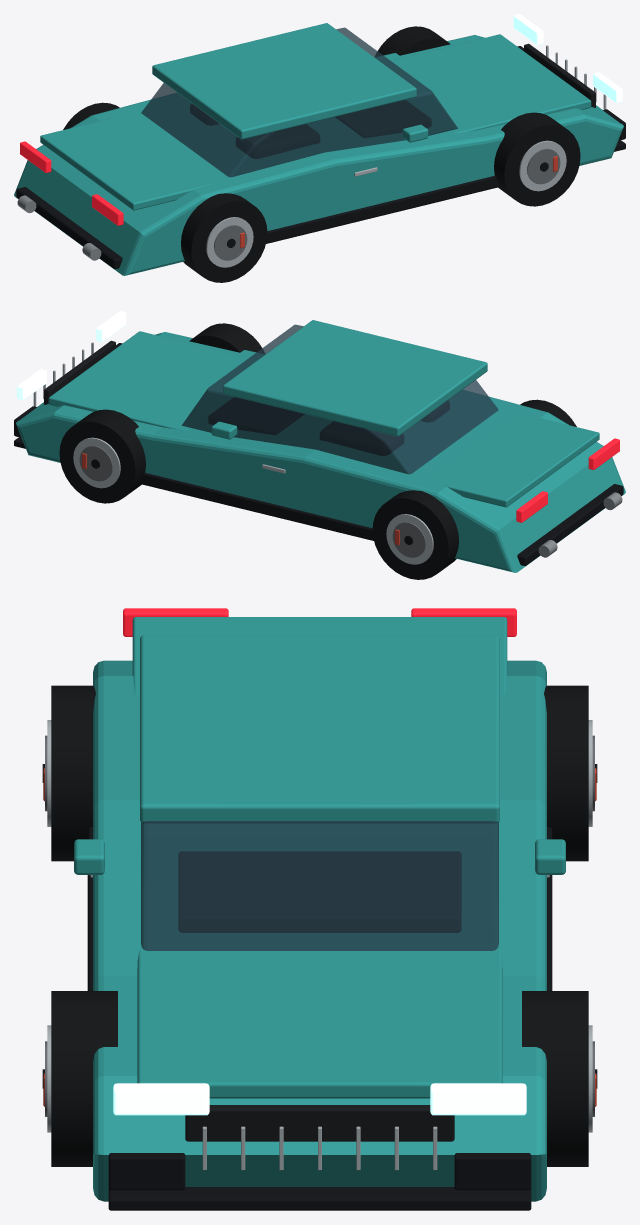
Rendered from lambo_temperario.glb.
3 views of the same model, one above another, from view 1: azimuth 30°, elevation 25°; view 2: azimuth 150°, elevation 25°; view 3: azimuth 270°, elevation 25° (orthographic). The views are drawn at different scales.
Visible parts, largest first — view 1: sculpted_body, roof, glasshouse, hood_center, rear_deck, front_right_wheel_tire, rear_right_wheel_tire, side_skirt_1, dashboard, seat_1, rear_diffuser, front_left_wheel_tire (+10 smaller); view 2: sculpted_body, roof, glasshouse, hood_center, rear_deck, front_left_wheel_tire, rear_left_wheel_tire, side_skirt_-1, dashboard, seat_-1, rear_diffuser, front_right_wheel_tire (+10 smaller); view 3: sculpted_body, roof, hood_center, glasshouse, dashboard, front_splitter, front_grille, front_left_wheel_tire, front_right_wheel_tire, rear_deck, rear_left_wheel_tire, rear_right_wheel_tire (+8 smaller).
Part boxes in pixels (<box>): sculpted_body: <box>14,35,623,275</box>; roof: <box>152,23,416,139</box>; glasshouse: <box>141,27,457,177</box>; hood_center: <box>383,34,591,133</box>; rear_deck: <box>40,116,213,210</box>; front_right_wheel_tire: <box>494,112,580,206</box>; rear_right_wheel_tire: <box>181,193,267,282</box>; side_skirt_1: <box>266,175,500,243</box>; dashboard: <box>336,100,430,137</box>; seat_1: <box>236,124,319,158</box>; rear_diffuser: <box>16,187,122,268</box>; front_left_wheel_tire: <box>375,26,450,56</box>; sculpted_body: <box>16,332,625,572</box>; roof: <box>223,320,487,436</box>; glasshouse: <box>182,324,498,474</box>; hood_center: <box>48,331,256,430</box>; rear_deck: <box>426,413,599,507</box>; front_left_wheel_tire: <box>59,409,145,503</box>; rear_left_wheel_tire: <box>372,490,458,579</box>; side_skirt_-1: <box>139,472,373,540</box>; dashboard: <box>209,397,303,434</box>; seat_-1: <box>320,421,403,455</box>; rear_diffuser: <box>517,484,623,565</box>; front_right_wheel_tire: <box>189,323,264,353</box>; sculpted_body: <box>93,660,546,1201</box>; roof: <box>140,635,499,822</box>; hood_center: <box>137,949,502,1098</box>; glasshouse: <box>141,821,498,950</box>; dashboard: <box>179,852,460,932</box>; front_splitter: <box>108,1187,531,1210</box>; front_grille: <box>185,1105,454,1141</box>; front_left_wheel_tire: <box>522,991,588,1166</box>; front_right_wheel_tire: <box>51,991,117,1166</box>; rear_deck: <box>132,617,507,695</box>; rear_left_wheel_tire: <box>544,685,588,861</box>; rear_right_wheel_tire: <box>51,685,95,861</box>.
Size of the model in its own units: 5.08 by 1.17 by 2.33.
